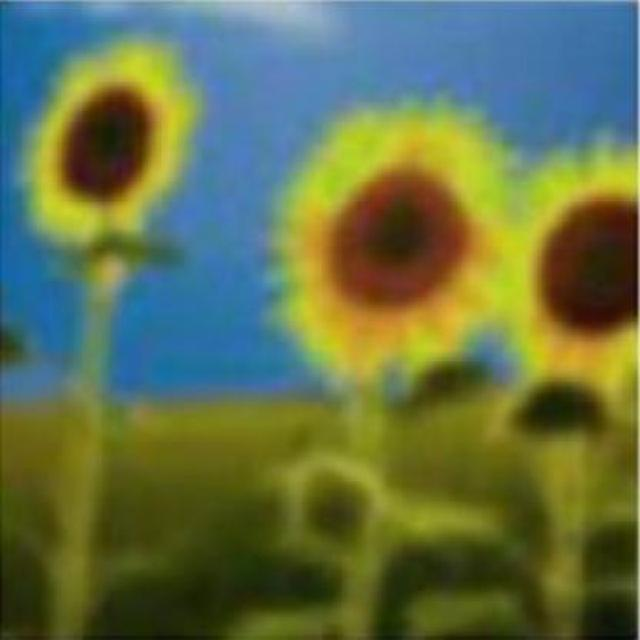sunflower: (265, 95, 512, 380), (22, 35, 200, 256)
